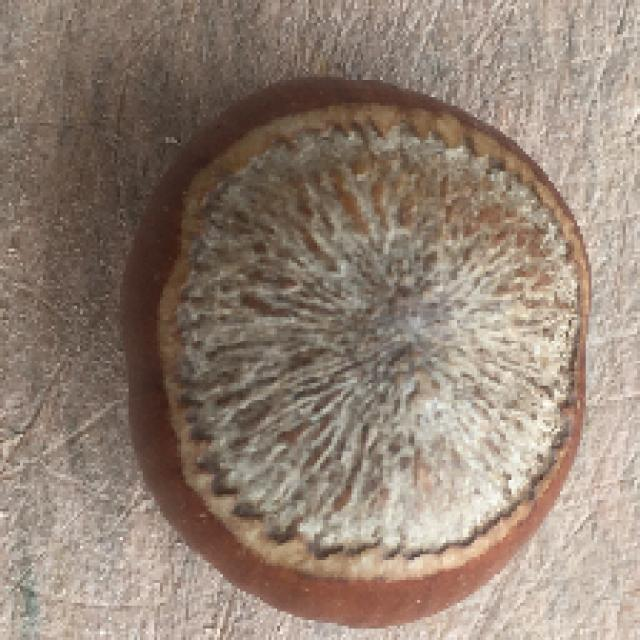qualityHazelnut: (117, 71, 593, 629)
